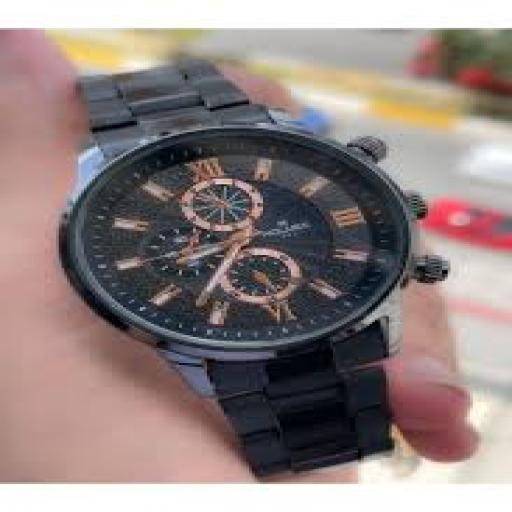KolSaati: (33, 50, 482, 482)
